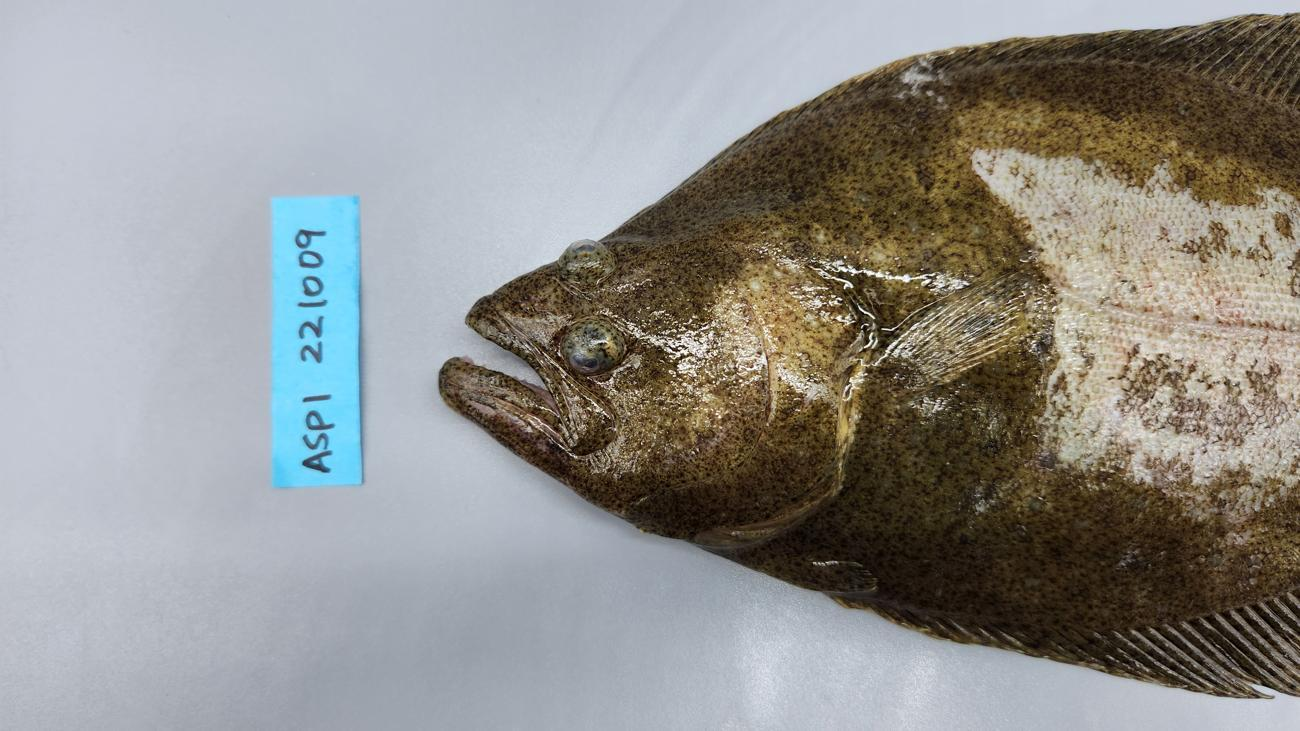SPDYH: (855, 474, 1299, 629)
SPFDH: (841, 596, 1089, 658)
